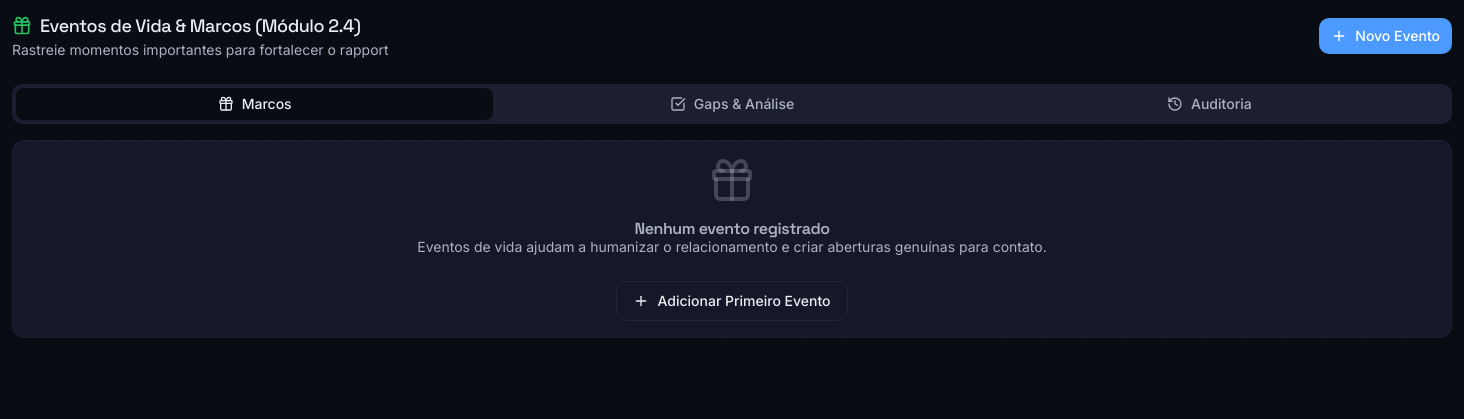
Test: LifeEventsTab › displays the audit trail tab
Click the tab "Auditoria". click: (1209, 104)
box: [971, 88, 1448, 120]
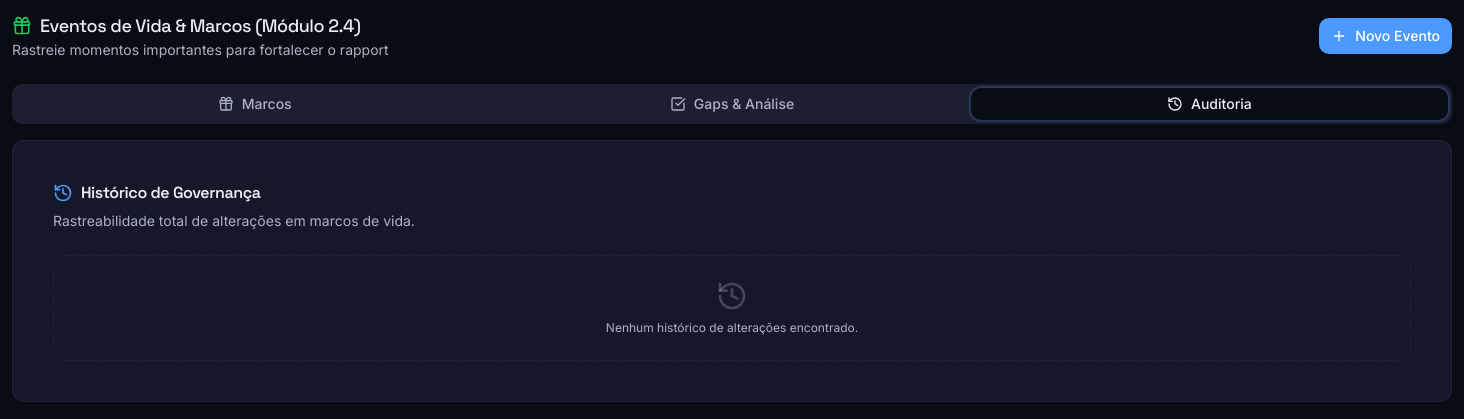
Expected: the heading "Histórico de Governança" is shown, [53, 182, 261, 203]
